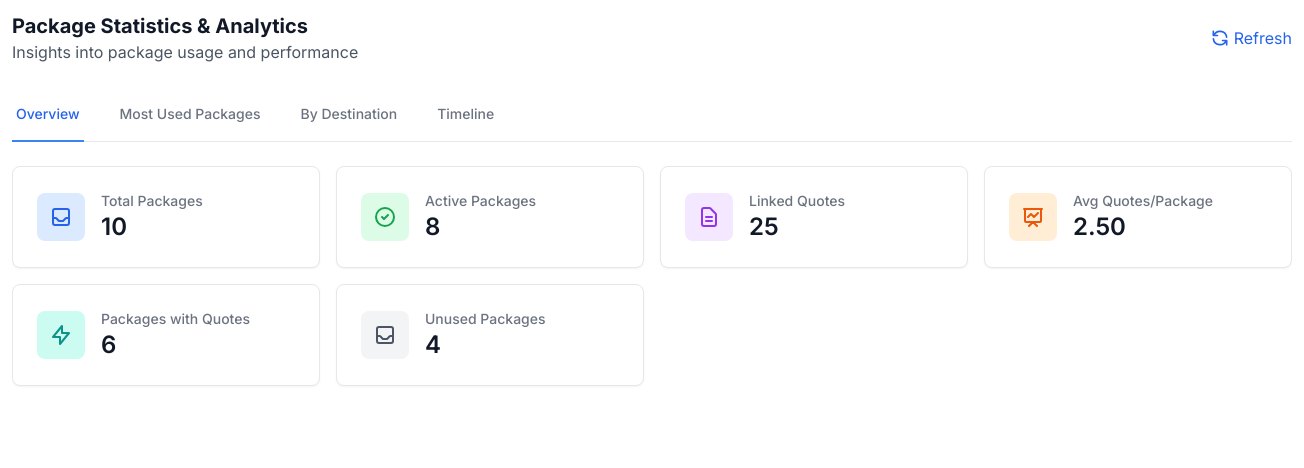
Test: SuperPackageStatistics › should display destination counts correctly
Check: the heading "Package Statistics & Analytics" is shown, box x1=12 y1=12 x2=358 y2=40
# Switch to destinations tab
What coordinates should you click on to do the following:
click the button "By Destination"
I would click on:
 (349, 115)
Its box is x1=296 y1=88 x2=401 y2=142.
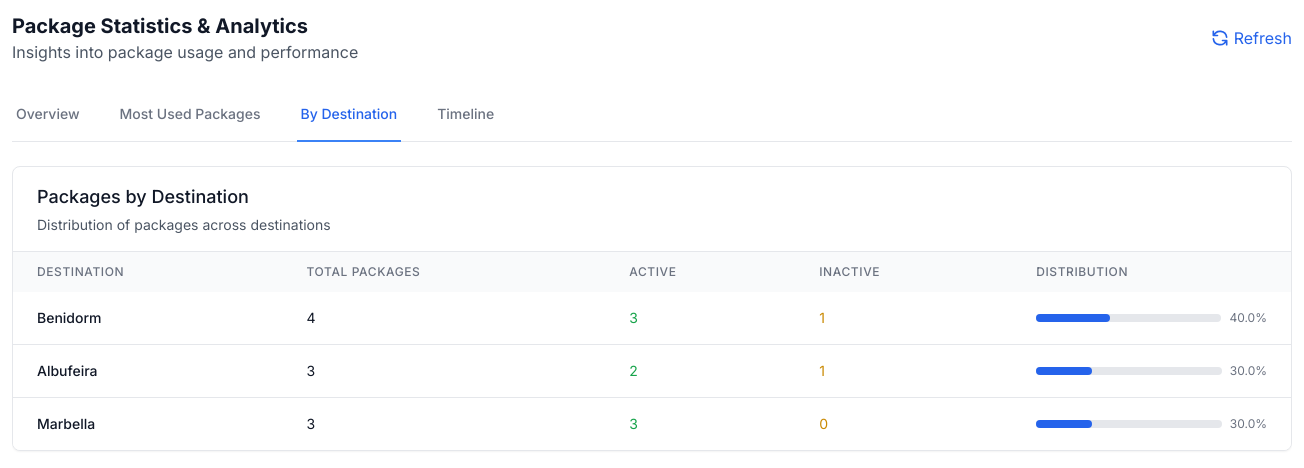
Check: the text "Benidorm" is shown, box x1=13 y1=292 x2=282 y2=344
Check: the text "Albufeira" is shown, box x1=13 y1=344 x2=282 y2=398
Check: the text "Marbella" is shown, box x1=13 y1=398 x2=282 y2=450
